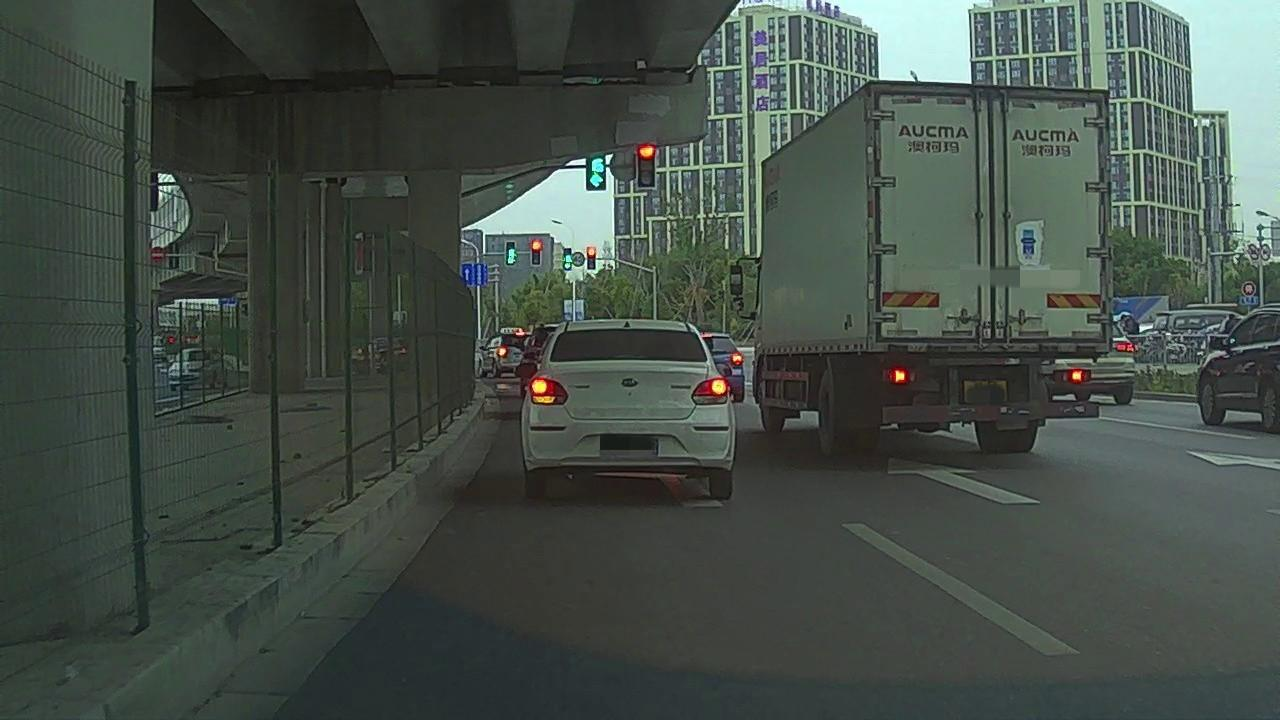traffic_light: (639, 151, 656, 187), (585, 155, 603, 188), (531, 239, 542, 265), (506, 241, 515, 265), (587, 247, 595, 270), (563, 248, 571, 270)
